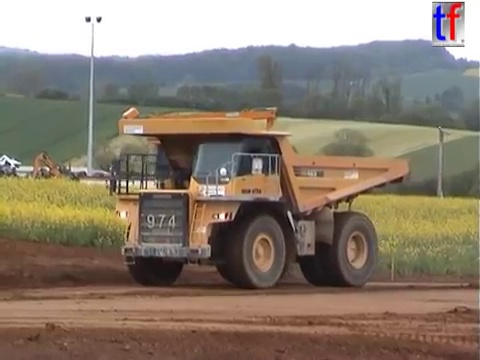excavator: (28, 150, 82, 190)
truck: (105, 103, 413, 292)
